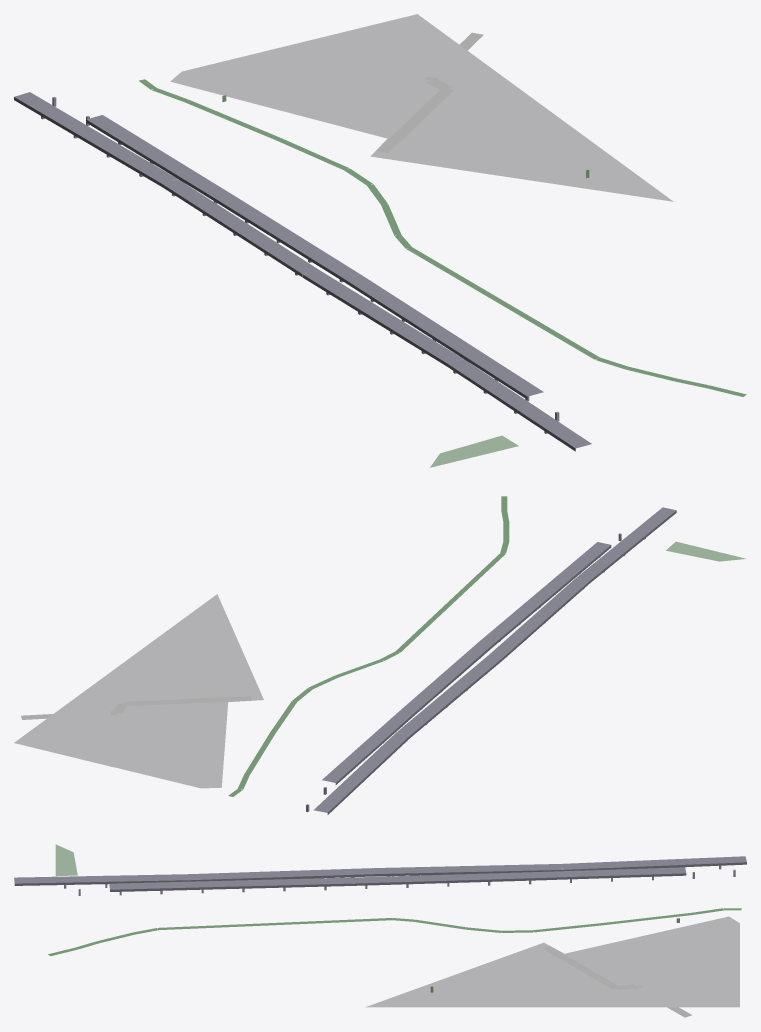
3 renders of one model, top to bottom at view 1: azimuth 30°, elevation 25°; view 2: azimuth 150°, elevation 25°; view 3: azimuth 270°, elevation 25°, orthographic. The views are drawn at different scales.
Bounding box in the file's own units: 299 × 7.4 × 536.
